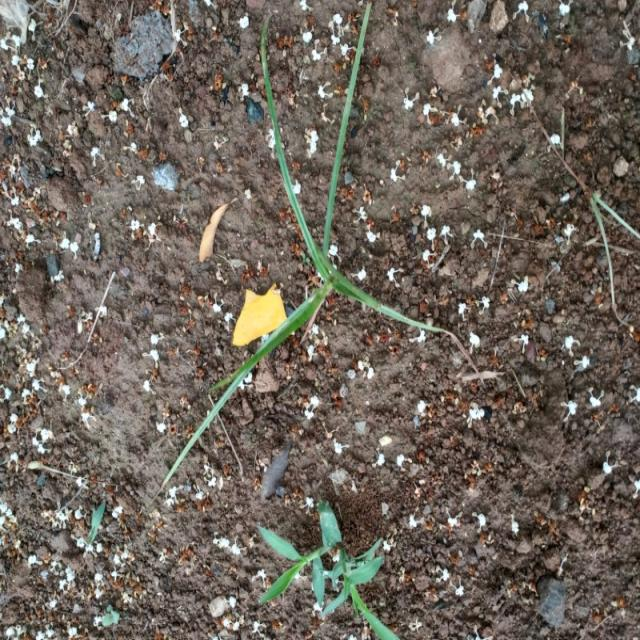sedge: (146, 24, 448, 414)
